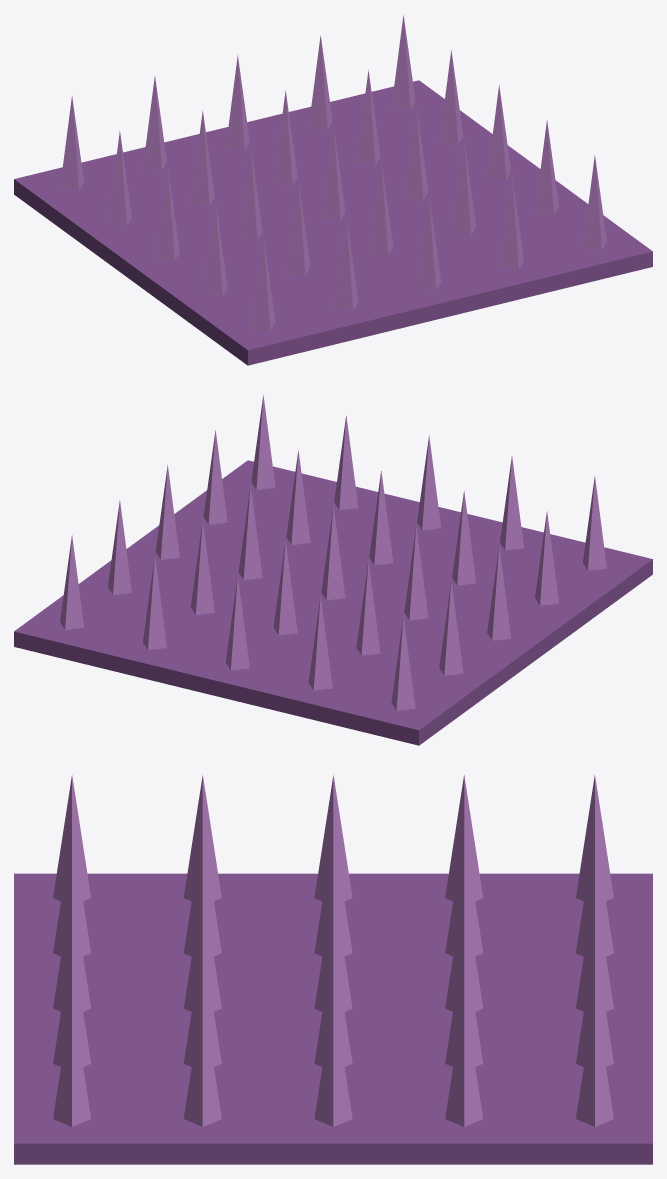
File: Spikes.fbx
The picture shows the model from 3 angles, top to bottom: view 1: azimuth 30°, elevation 25°; view 2: azimuth 150°, elevation 25°; view 3: azimuth 270°, elevation 25°; orthographic projection. The views are drawn at different scales.
Visible parts, largest first — view 1: Body; view 2: Body; view 3: Body.
Part boxes in pixels (box(x1,y1,x2,y2)): Body: box(14, 15, 652, 365); Body: box(14, 395, 652, 745); Body: box(14, 774, 652, 1164).
Bounding box in the file's own units: 2.2 × 0.55 × 2.2.
